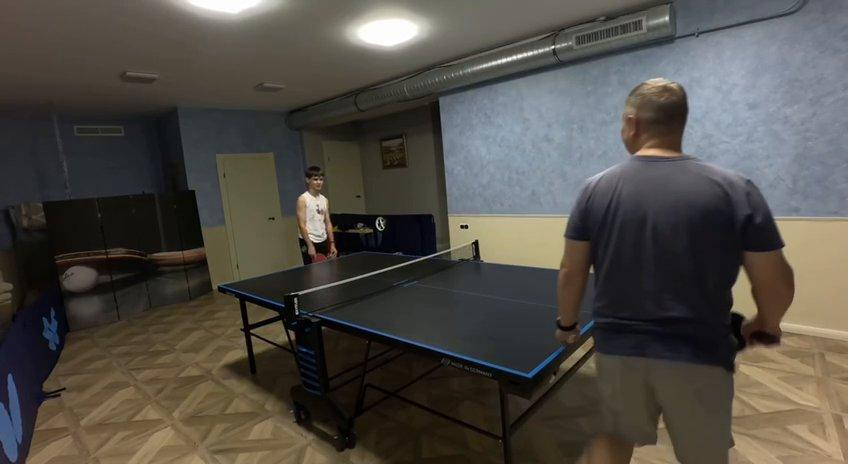Net: (283, 240, 481, 321)
Player1: (296, 166, 336, 262)
Player2: (558, 78, 792, 463)
Table: (222, 253, 595, 377)
